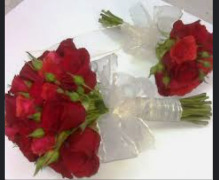RedRose: (45, 34, 98, 93), (58, 131, 104, 177), (40, 93, 86, 136)
